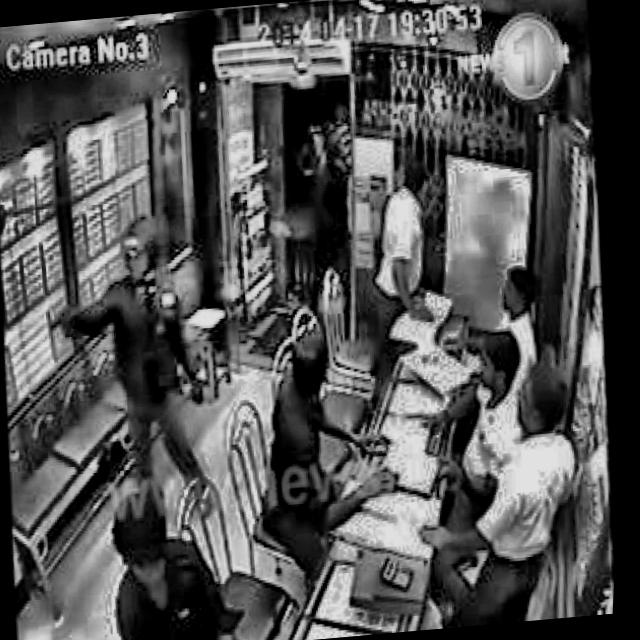robbery: (31, 205, 232, 519)
